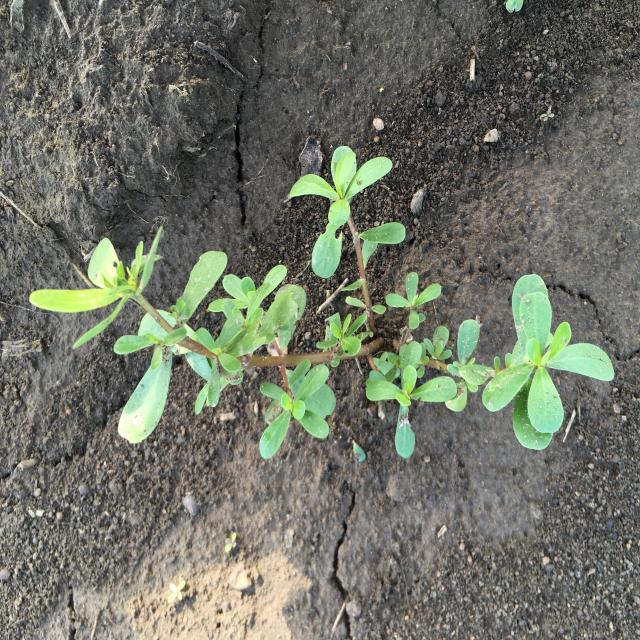Purslane: (29, 147, 615, 458)
